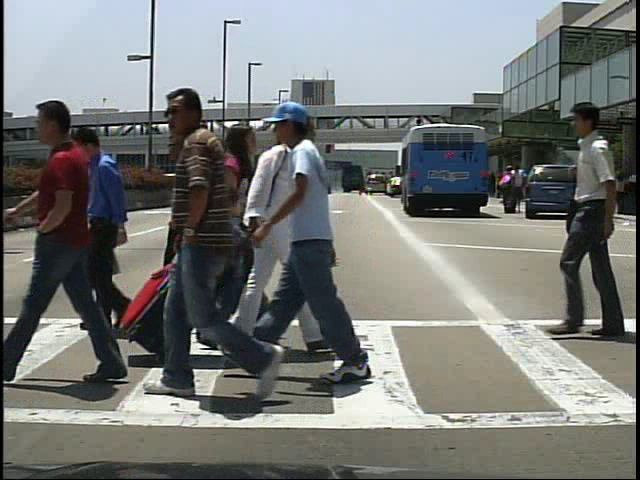person: (153, 84, 284, 422), (6, 91, 120, 390), (206, 112, 322, 363), (273, 105, 375, 386), (548, 100, 625, 341), (59, 122, 138, 341), (212, 122, 271, 361), (193, 134, 265, 329), (158, 129, 230, 322), (208, 185, 249, 325), (582, 166, 602, 218), (498, 166, 516, 219), (514, 165, 530, 215)
